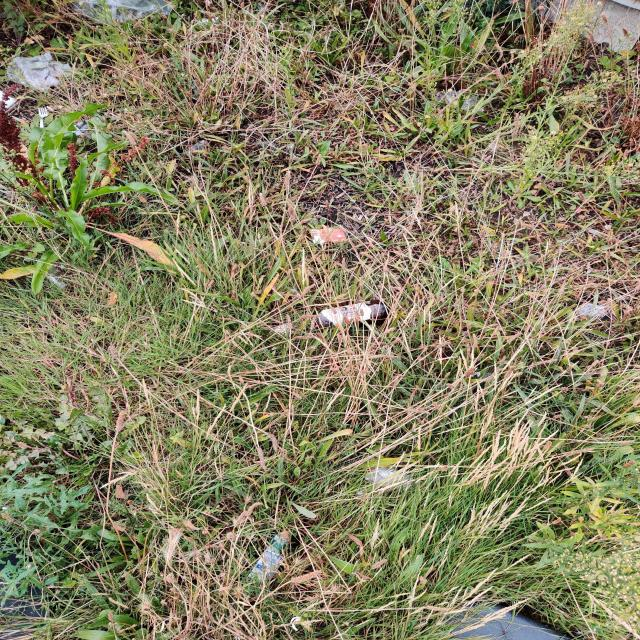litter: (265, 296, 393, 338), (240, 529, 297, 588), (7, 51, 79, 92), (70, 0, 179, 27), (352, 464, 419, 497), (433, 87, 487, 111), (40, 261, 70, 291), (72, 114, 105, 136), (308, 226, 348, 244), (574, 302, 612, 318), (183, 138, 210, 155), (36, 106, 47, 127)
